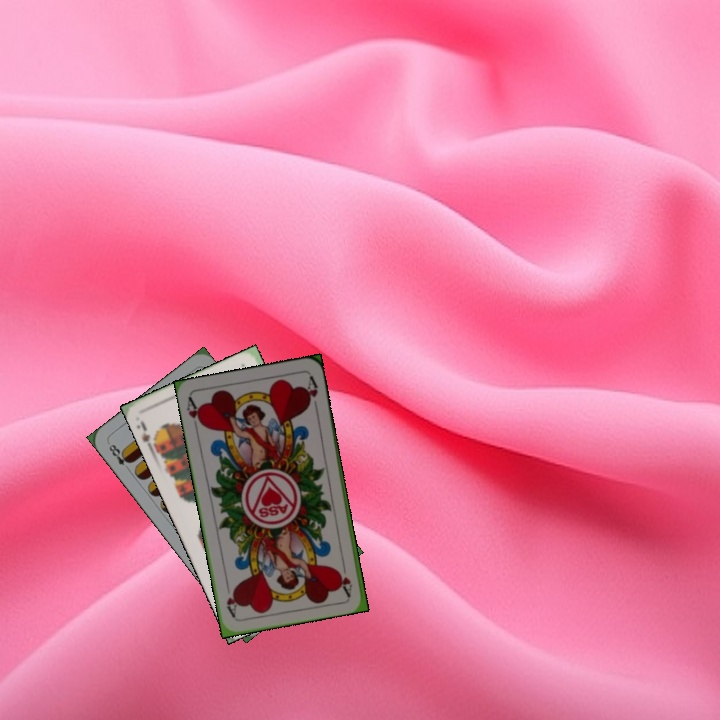E8: (104, 439, 134, 474)
HA: (183, 394, 206, 434), (336, 557, 355, 598)
S9: (133, 416, 162, 454)
